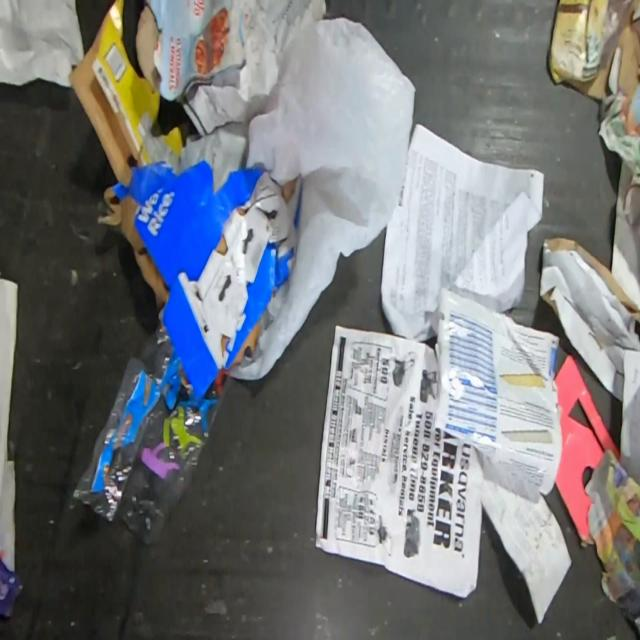cardboard: (96, 159, 303, 400), (66, 0, 184, 186), (552, 353, 621, 548), (548, 0, 640, 100)
soft_plastic: (227, 16, 417, 381), (70, 323, 227, 547)
